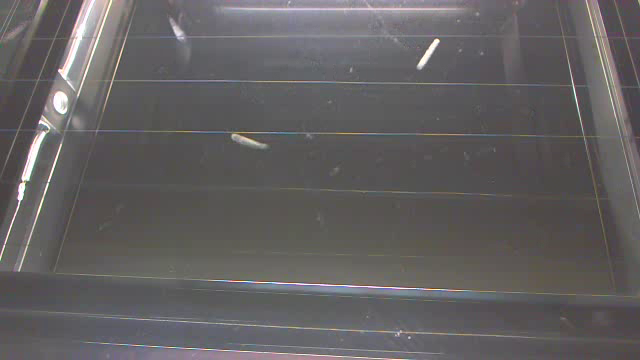alpha: (228, 128, 278, 156), (413, 37, 441, 70), (163, 14, 188, 44)
